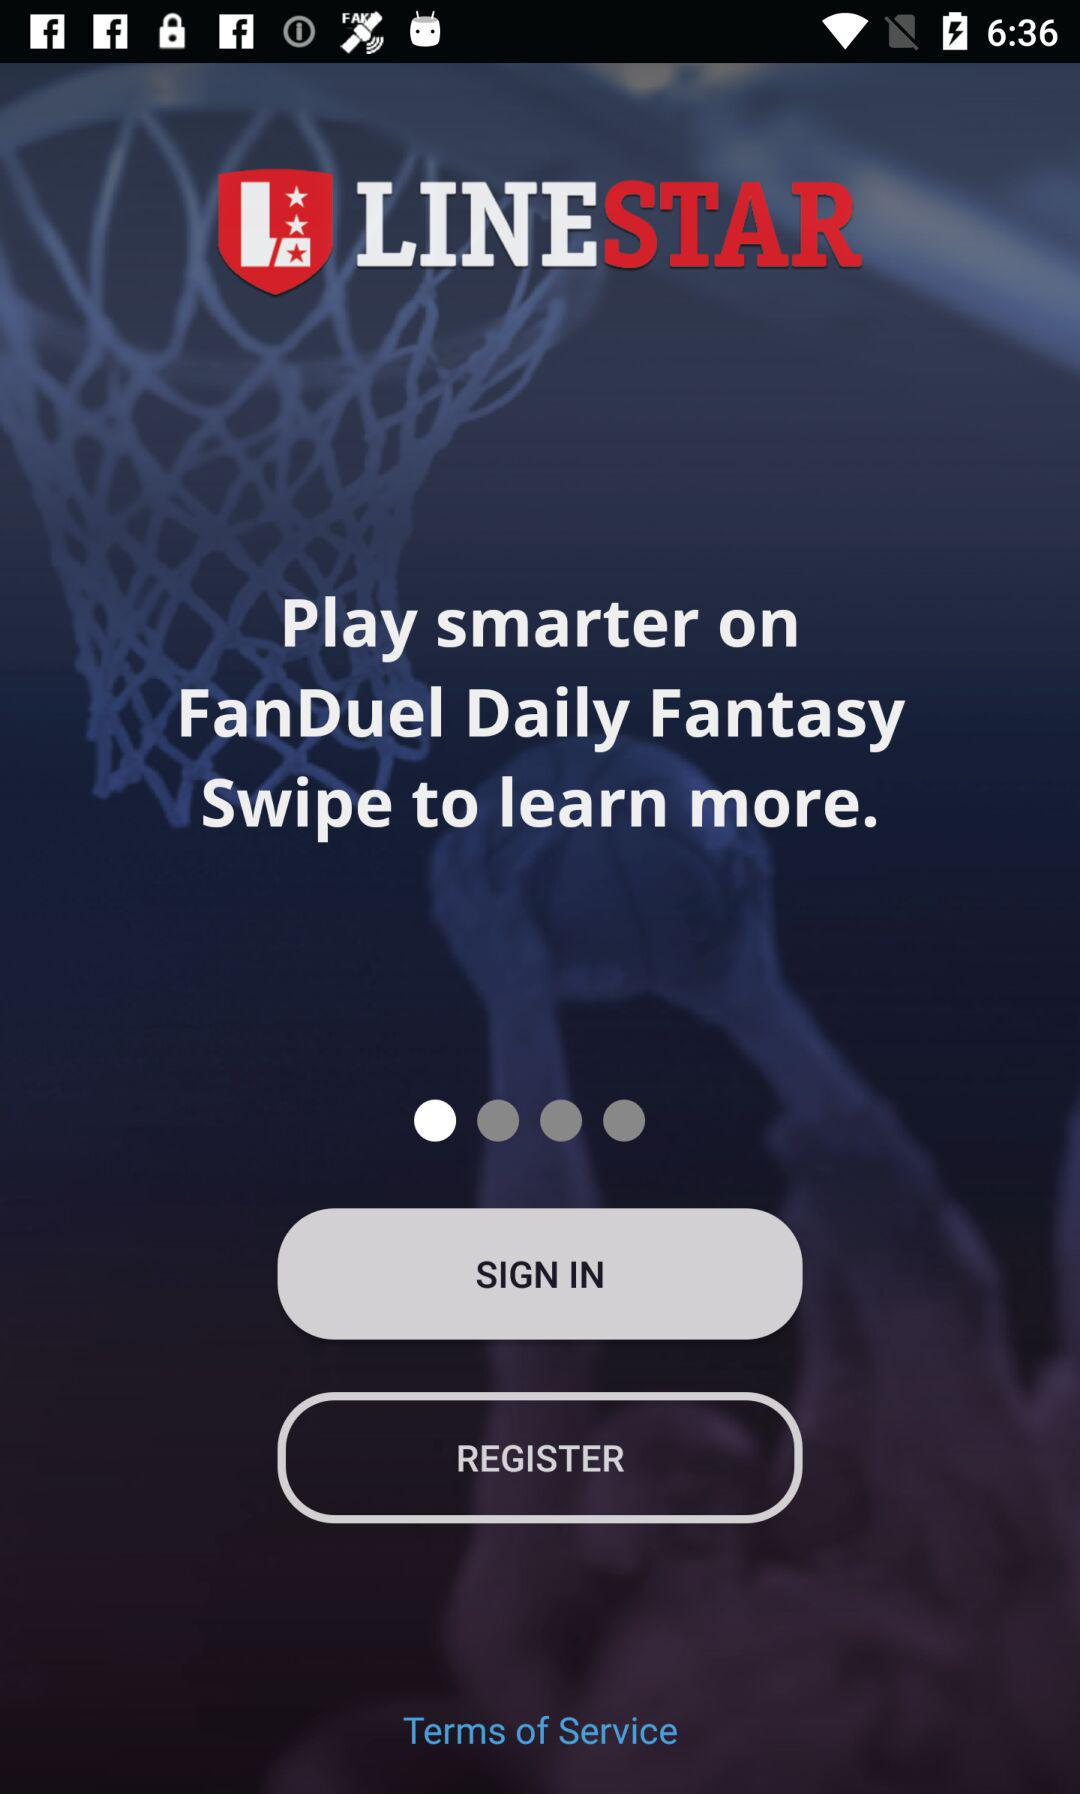BackgroundImage: (1, 64, 1080, 1794)
Image: (217, 168, 863, 299)
PageIndicator: (413, 1098, 647, 1144)
Text: (179, 595, 906, 844), (398, 1711, 682, 1750)
TextButton: (277, 1208, 805, 1340), (277, 1392, 805, 1524)
UpperTaskBar: (1, 1, 1080, 64)
